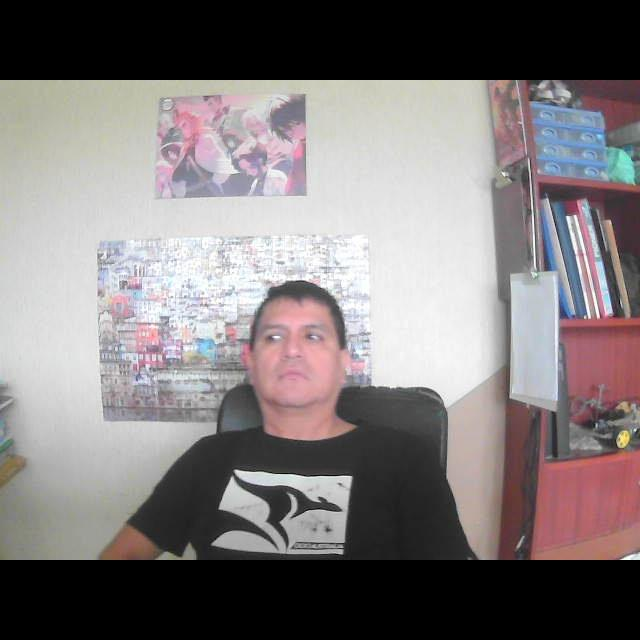cesar: (228, 272, 372, 450)
